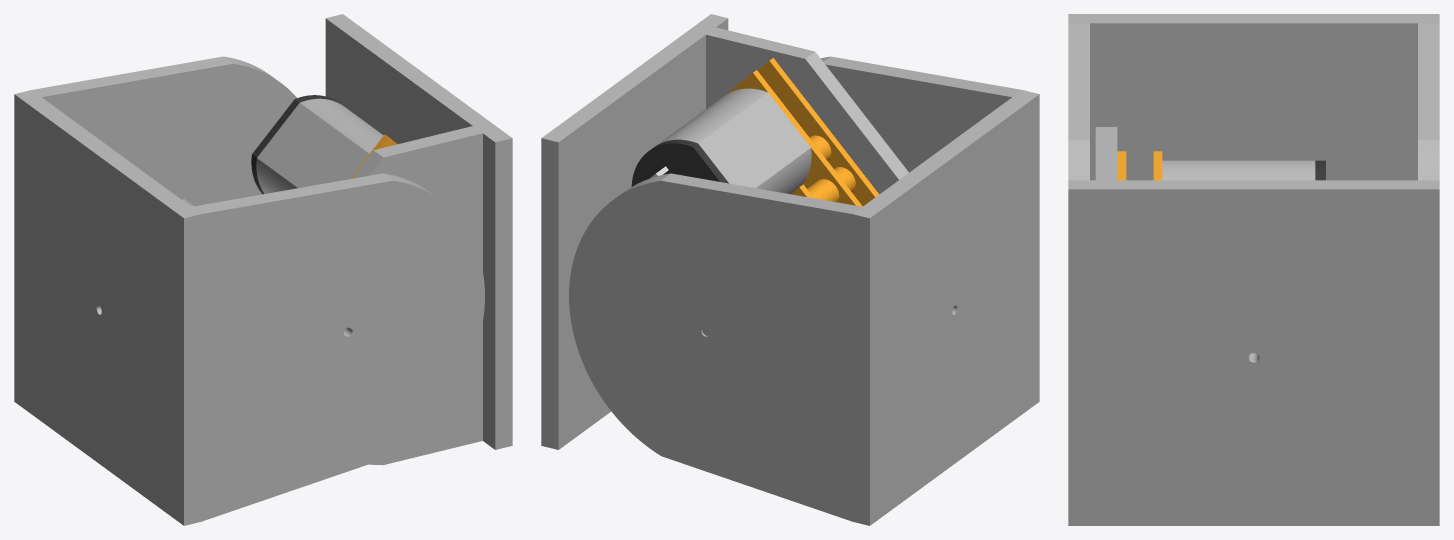
3 views of the same model, side by side, from view 1: azimuth 30°, elevation 25°; view 2: azimuth 150°, elevation 25°; view 3: azimuth 270°, elevation 25° (orthographic). The views are drawn at different scales.
Parts seen in each view (by area): view 1: Твердое тело1 (×5), Твердое тело2 (×2); view 2: Твердое тело1 (×6), Твердое тело2 (×2); view 3: Твердое тело1 (×5), Твердое тело2 (×2).
Boxes of the visible parts, box(x1,y1,x2,y2) form: Твердое тело1 (×5): box(14, 14, 512, 525); Твердое тело2 (×2): box(256, 98, 482, 465); Твердое тело1 (×6): box(541, 14, 1039, 525); Твердое тело2 (×2): box(656, 27, 908, 194); Твердое тело1 (×5): box(1068, 14, 1439, 525); Твердое тело2 (×2): box(1095, 127, 1315, 407).
Size of the model in its own units: 38 by 34 by 34.
